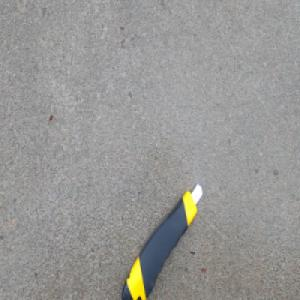Cutter: (119, 181, 203, 300)
